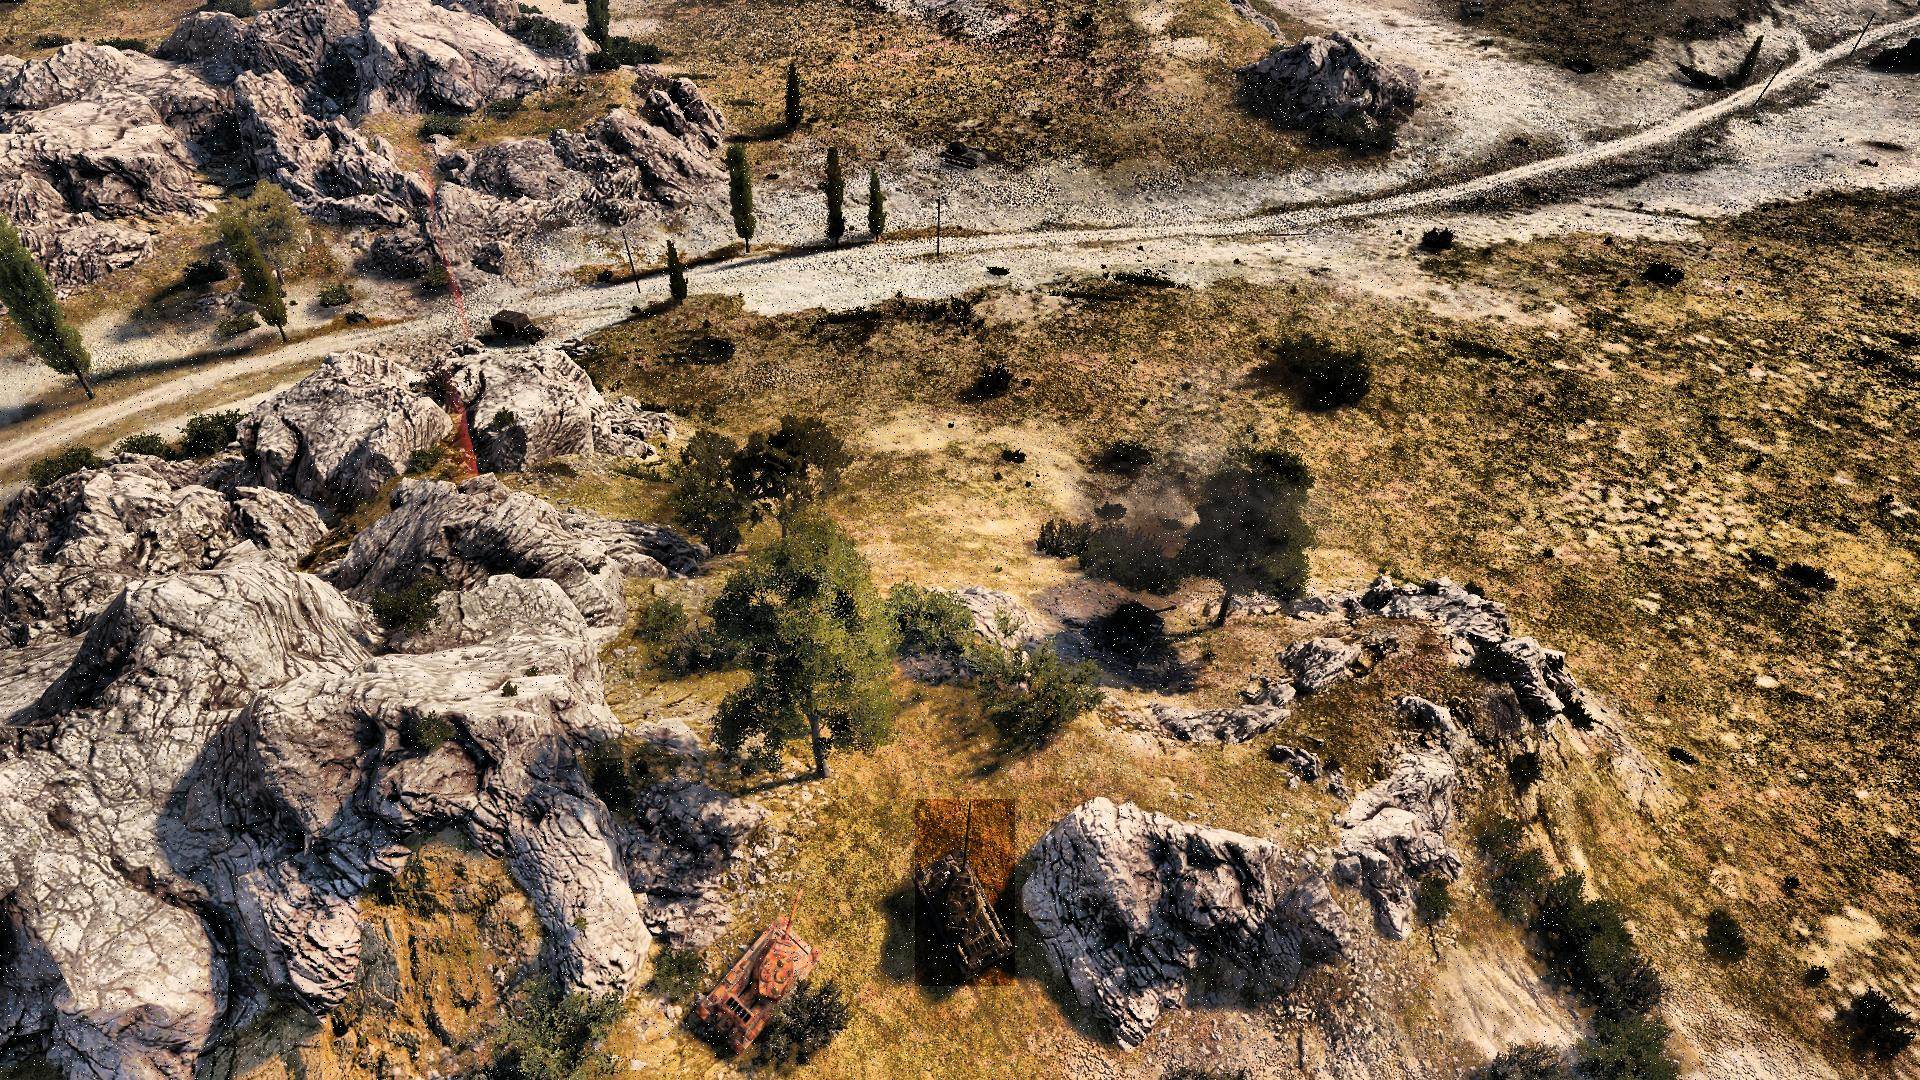military-vehicle: (692, 884, 823, 1059), (915, 800, 1015, 986)
